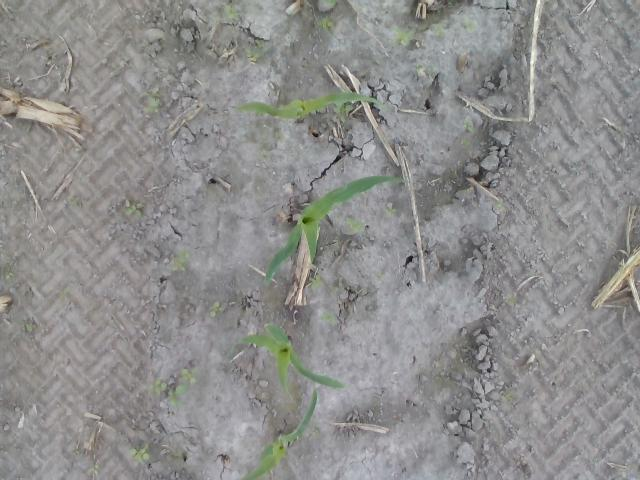Maize: (264, 172, 399, 286), (238, 320, 346, 392), (242, 389, 318, 480), (225, 91, 384, 123)
Weeds: (165, 384, 187, 407), (173, 248, 190, 271), (146, 88, 162, 112), (180, 367, 200, 385), (130, 446, 150, 463), (396, 29, 414, 47), (344, 215, 363, 232), (126, 200, 146, 216), (222, 3, 240, 19), (416, 64, 436, 76), (322, 15, 336, 32), (150, 380, 167, 394), (246, 49, 261, 64), (208, 302, 224, 316), (462, 118, 476, 134), (309, 275, 321, 288), (386, 204, 398, 216), (4, 266, 14, 280), (434, 26, 445, 38), (322, 314, 336, 322)
